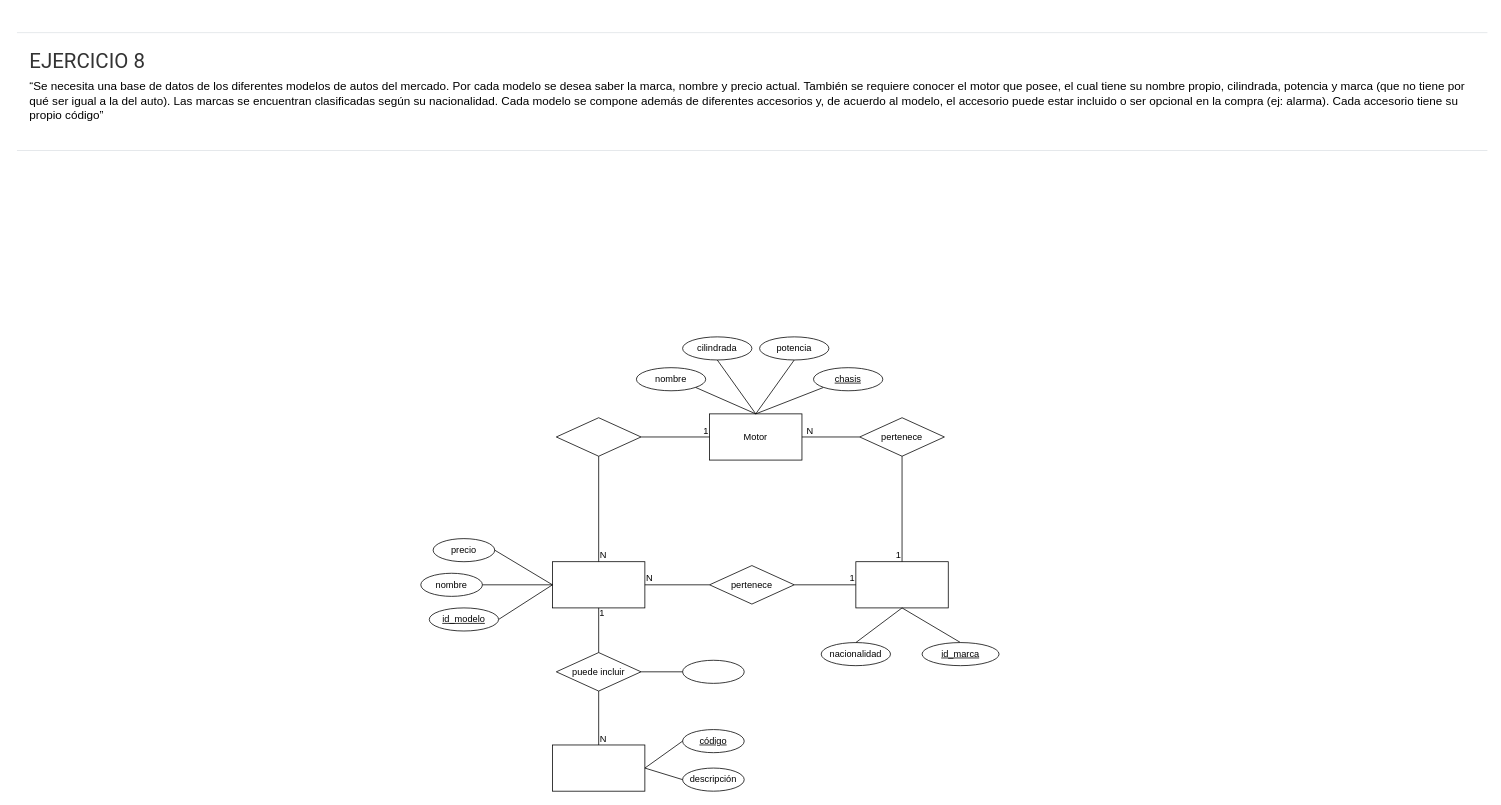
Image size: 1501x805. Some labels were removed from this diagram. Each missing label, with the centre of its shape:
"Accesorio" goes at point 598,767.
"Marca" goes at point 901,584.
"Modelo" goes at point 598,584.
"opcional" goes at point 713,671.
"tiene" goes at point 598,436.
